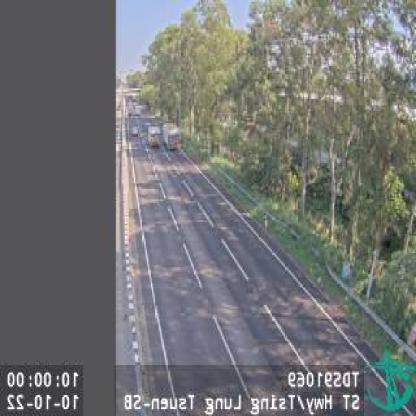Truck: (144, 122, 160, 150), (162, 124, 178, 151)
